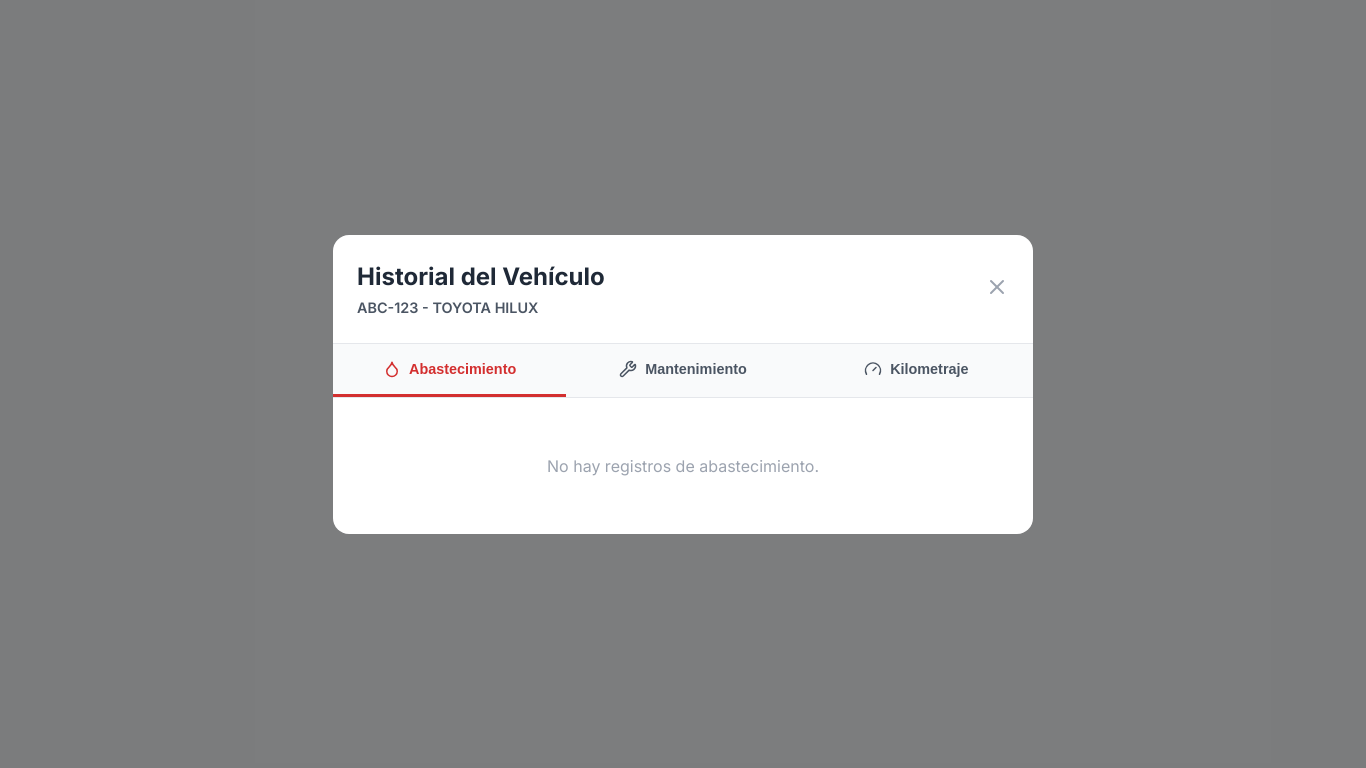
Test: VehicleHistoryModal Integration › displays empty state messages when no data exists
Expected: the text "No hay registros de abastecimiento." is shown, top-left (547, 456), bottom-right (819, 476)
Click the button "Mantenimiento". click: (683, 370)
box: top-left (566, 344), bottom-right (800, 396)
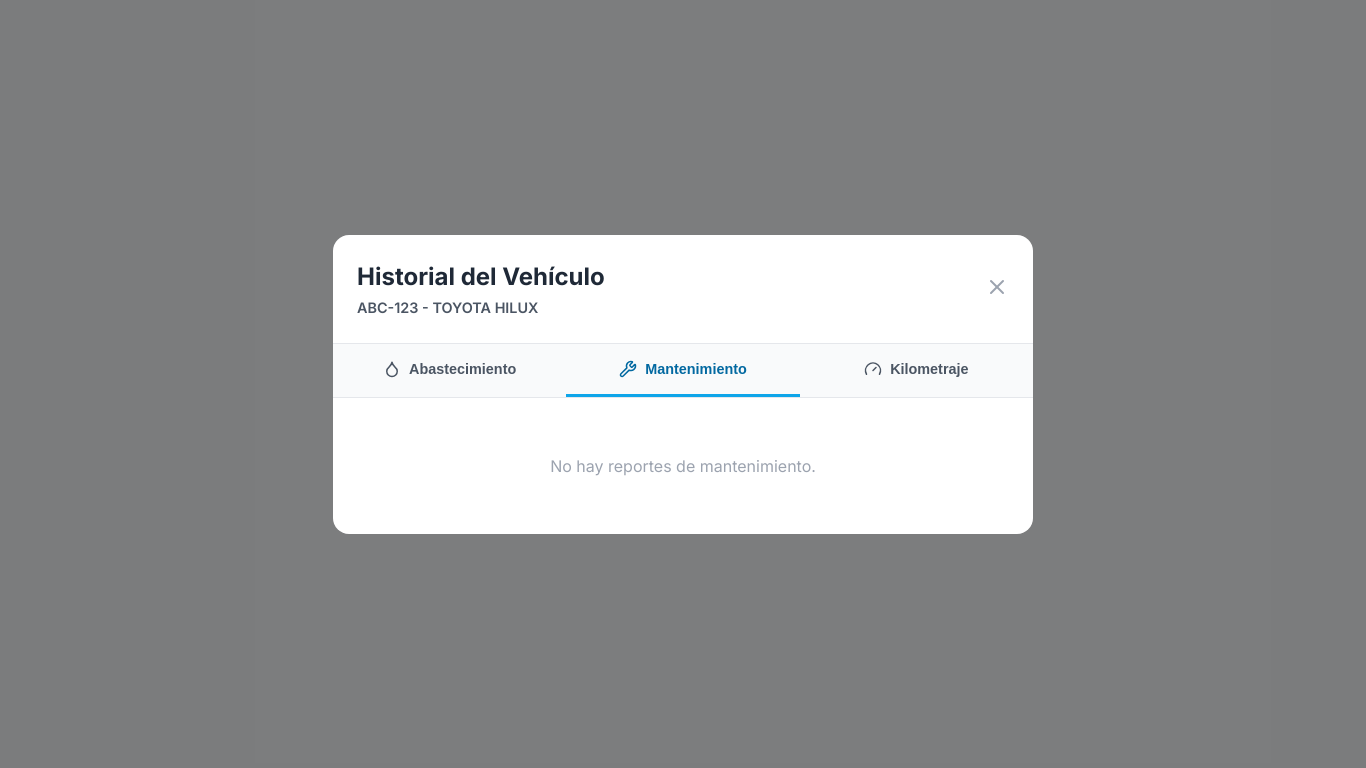
Result: the text "No hay reportes de mantenimiento." is shown at top-left (550, 456), bottom-right (816, 476)
Click the button "Kilometraje". click: (916, 370)
box: top-left (800, 344), bottom-right (1033, 396)
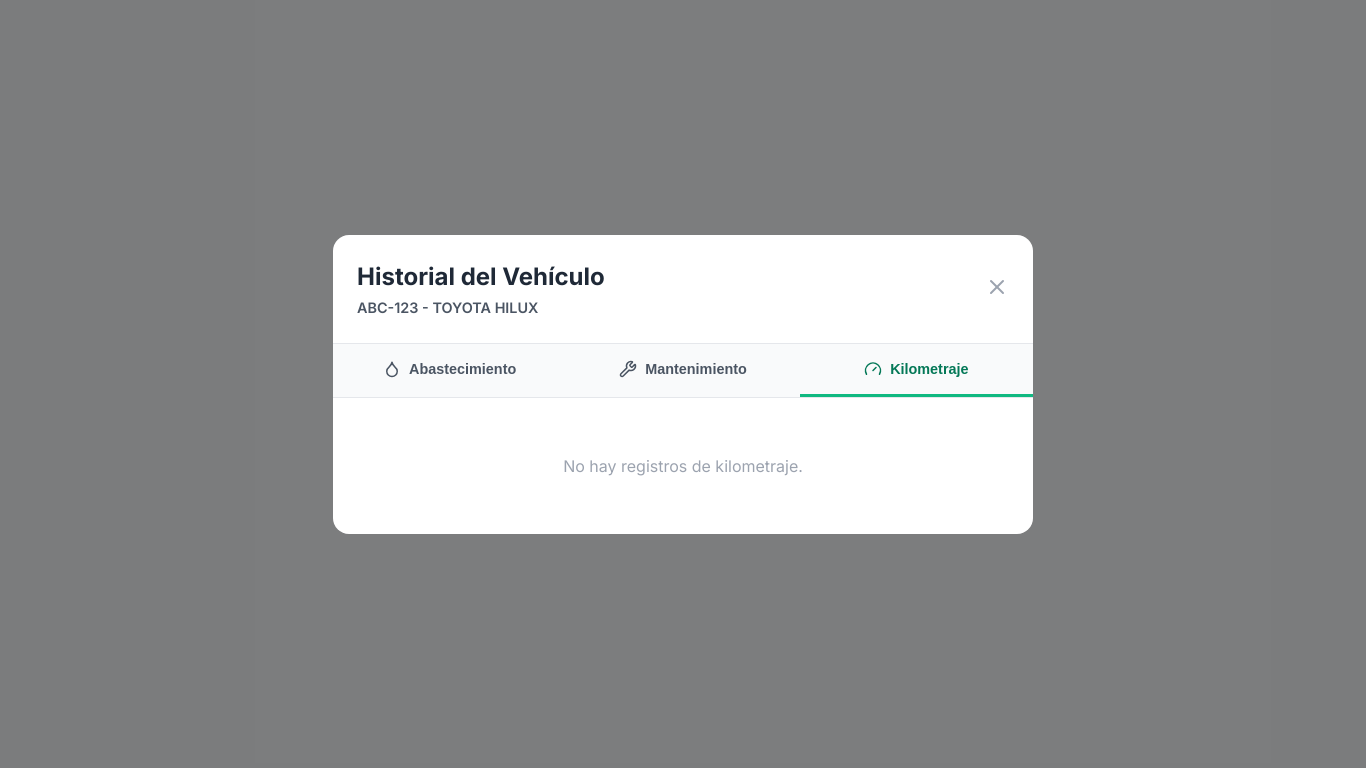
Result: the text "No hay registros de kilometraje." is shown at top-left (563, 456), bottom-right (803, 476)
